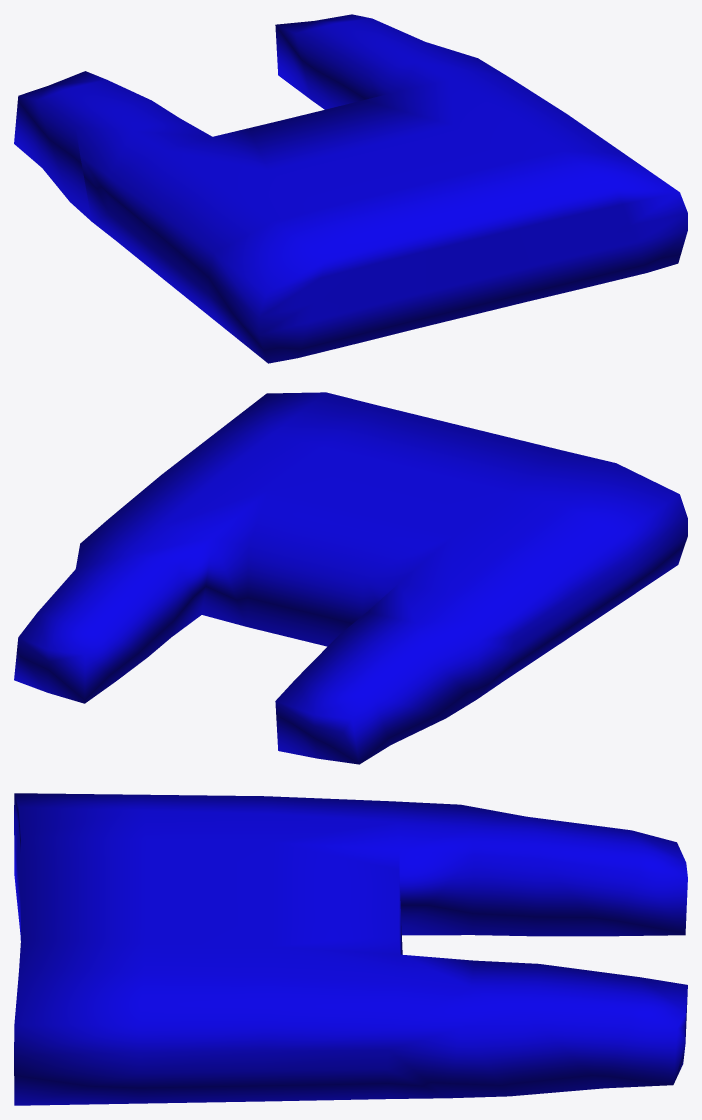
The model's file is Jersey.fbx.
3 renders of one model, top to bottom at view 1: azimuth 30°, elevation 25°; view 2: azimuth 150°, elevation 25°; view 3: azimuth 270°, elevation 25°, orthographic. The views are drawn at different scales.
Visible parts, largest first — view 1: jersey; view 2: jersey; view 3: jersey.
Part boxes in pixels (<box>): jersey: <box>14,14,687,363</box>; jersey: <box>14,392,687,764</box>; jersey: <box>14,793,687,1105</box>.
Bounding box in the file's own units: 86.81 × 18.03 × 103.
